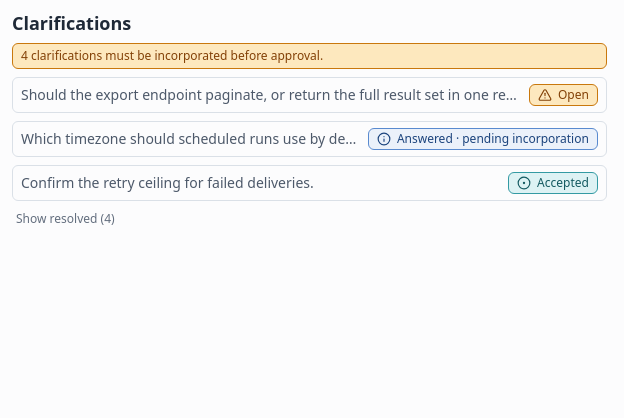
Test: ClarificationRegion — grouping + collapse (AC2) › collapses terminal states by default behind a disclosure toggle
Check: the text "Which timezone should scheduled runs use by default?" is shown, box [21, 128, 360, 148]
Check: the text "Which currency formatting library should the report use?" is not shown
Click the button with test id "clarification-terminal-toggle": (65, 218) [12, 208, 119, 228]
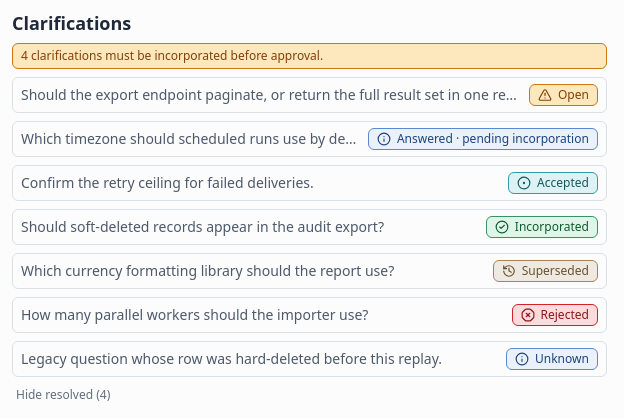
Check: the text "Which currency formatting library should the report use?" is shown, box [21, 260, 394, 280]
